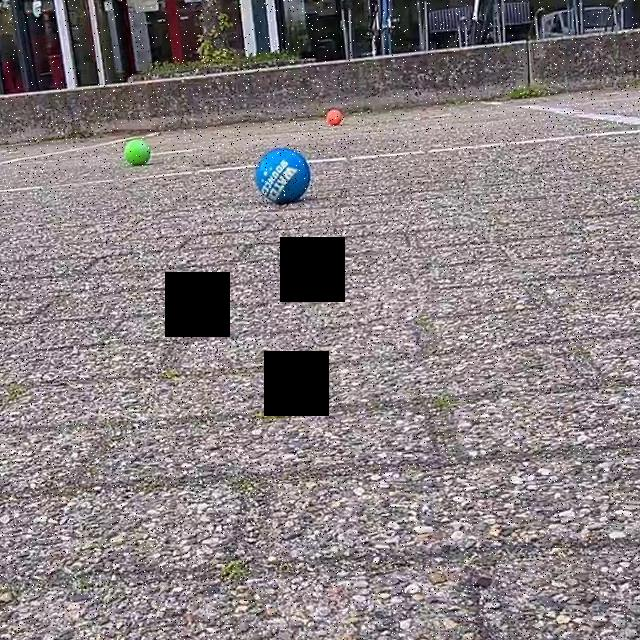ball: (120, 134, 153, 167), (325, 105, 343, 132)
